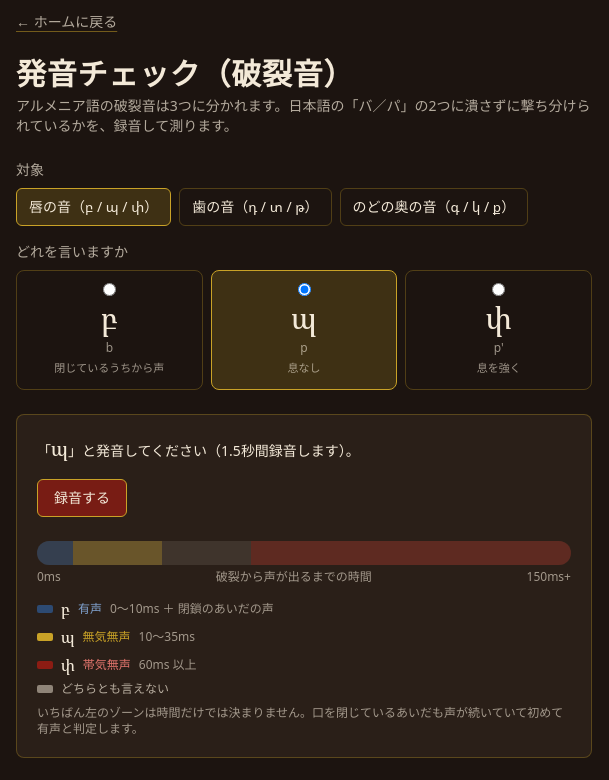
VotPractice › 録音結果が狙った音域と一致すれば肯定フィードバックを出す
Click the button "録音する".
click(82, 498)  # box top-left (37, 478), bottom-right (127, 516)
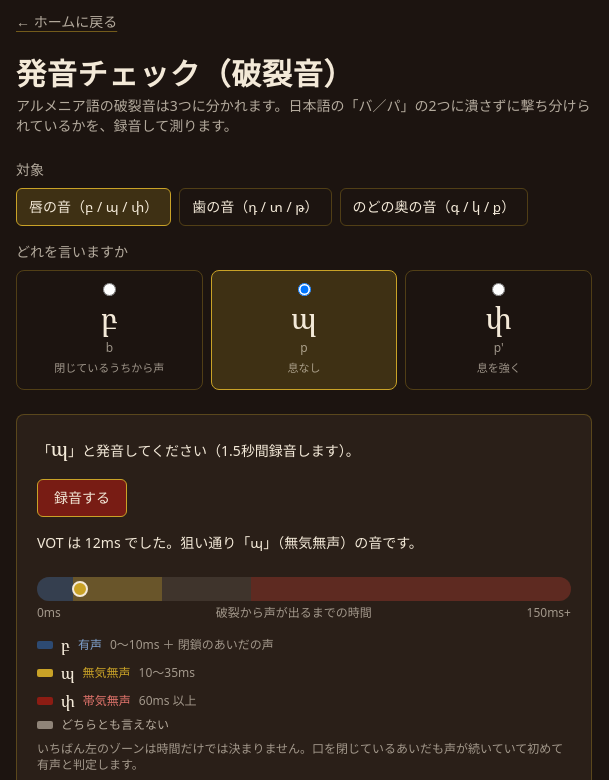
Result: the text "VOT は 12ms でした。狙い通り「պ」（無気無声）の音です。" is shown at top-left (37, 532), bottom-right (423, 552)
